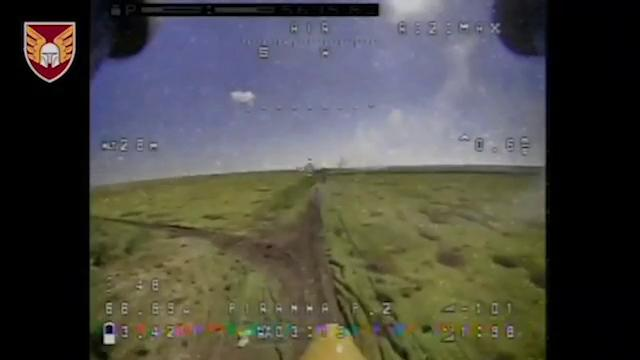tank: (311, 183, 323, 205)
